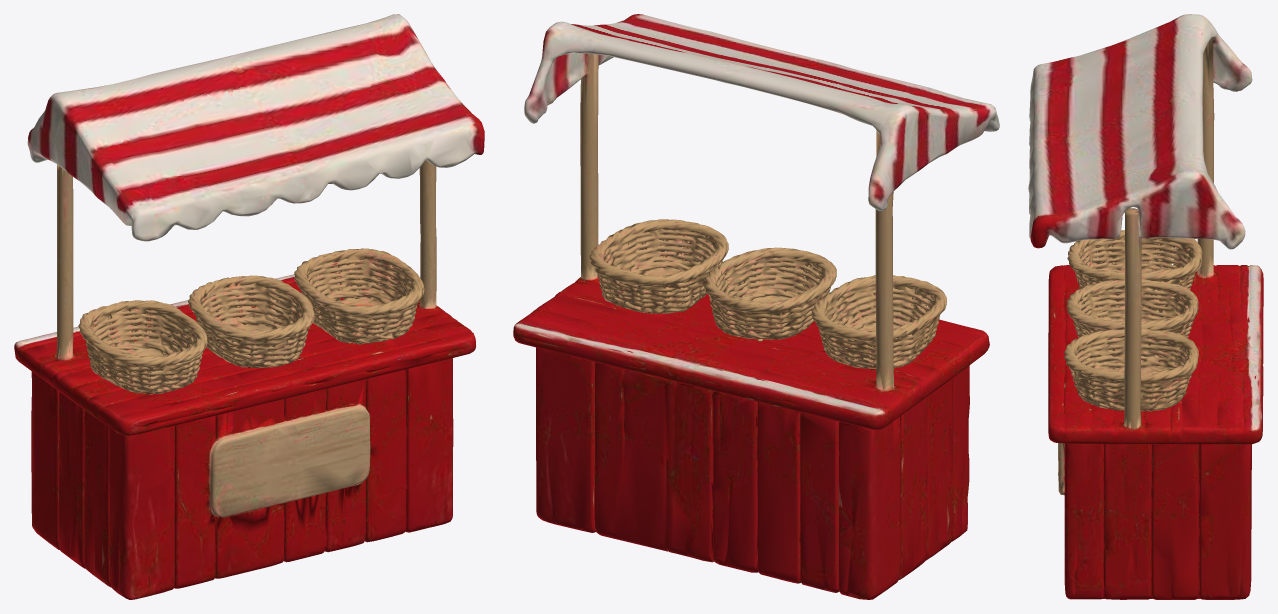
File: kiosk.glb
3 views of the same model, side by side, from view 1: azimuth 30°, elevation 25°; view 2: azimuth 150°, elevation 25°; view 3: azimuth 270°, elevation 25° (orthographic). The views are drawn at different scales.
Bounding box in the file's own units: 1.56 × 1.9 × 0.9292.
Materials: 1 (1 with a texture image).
